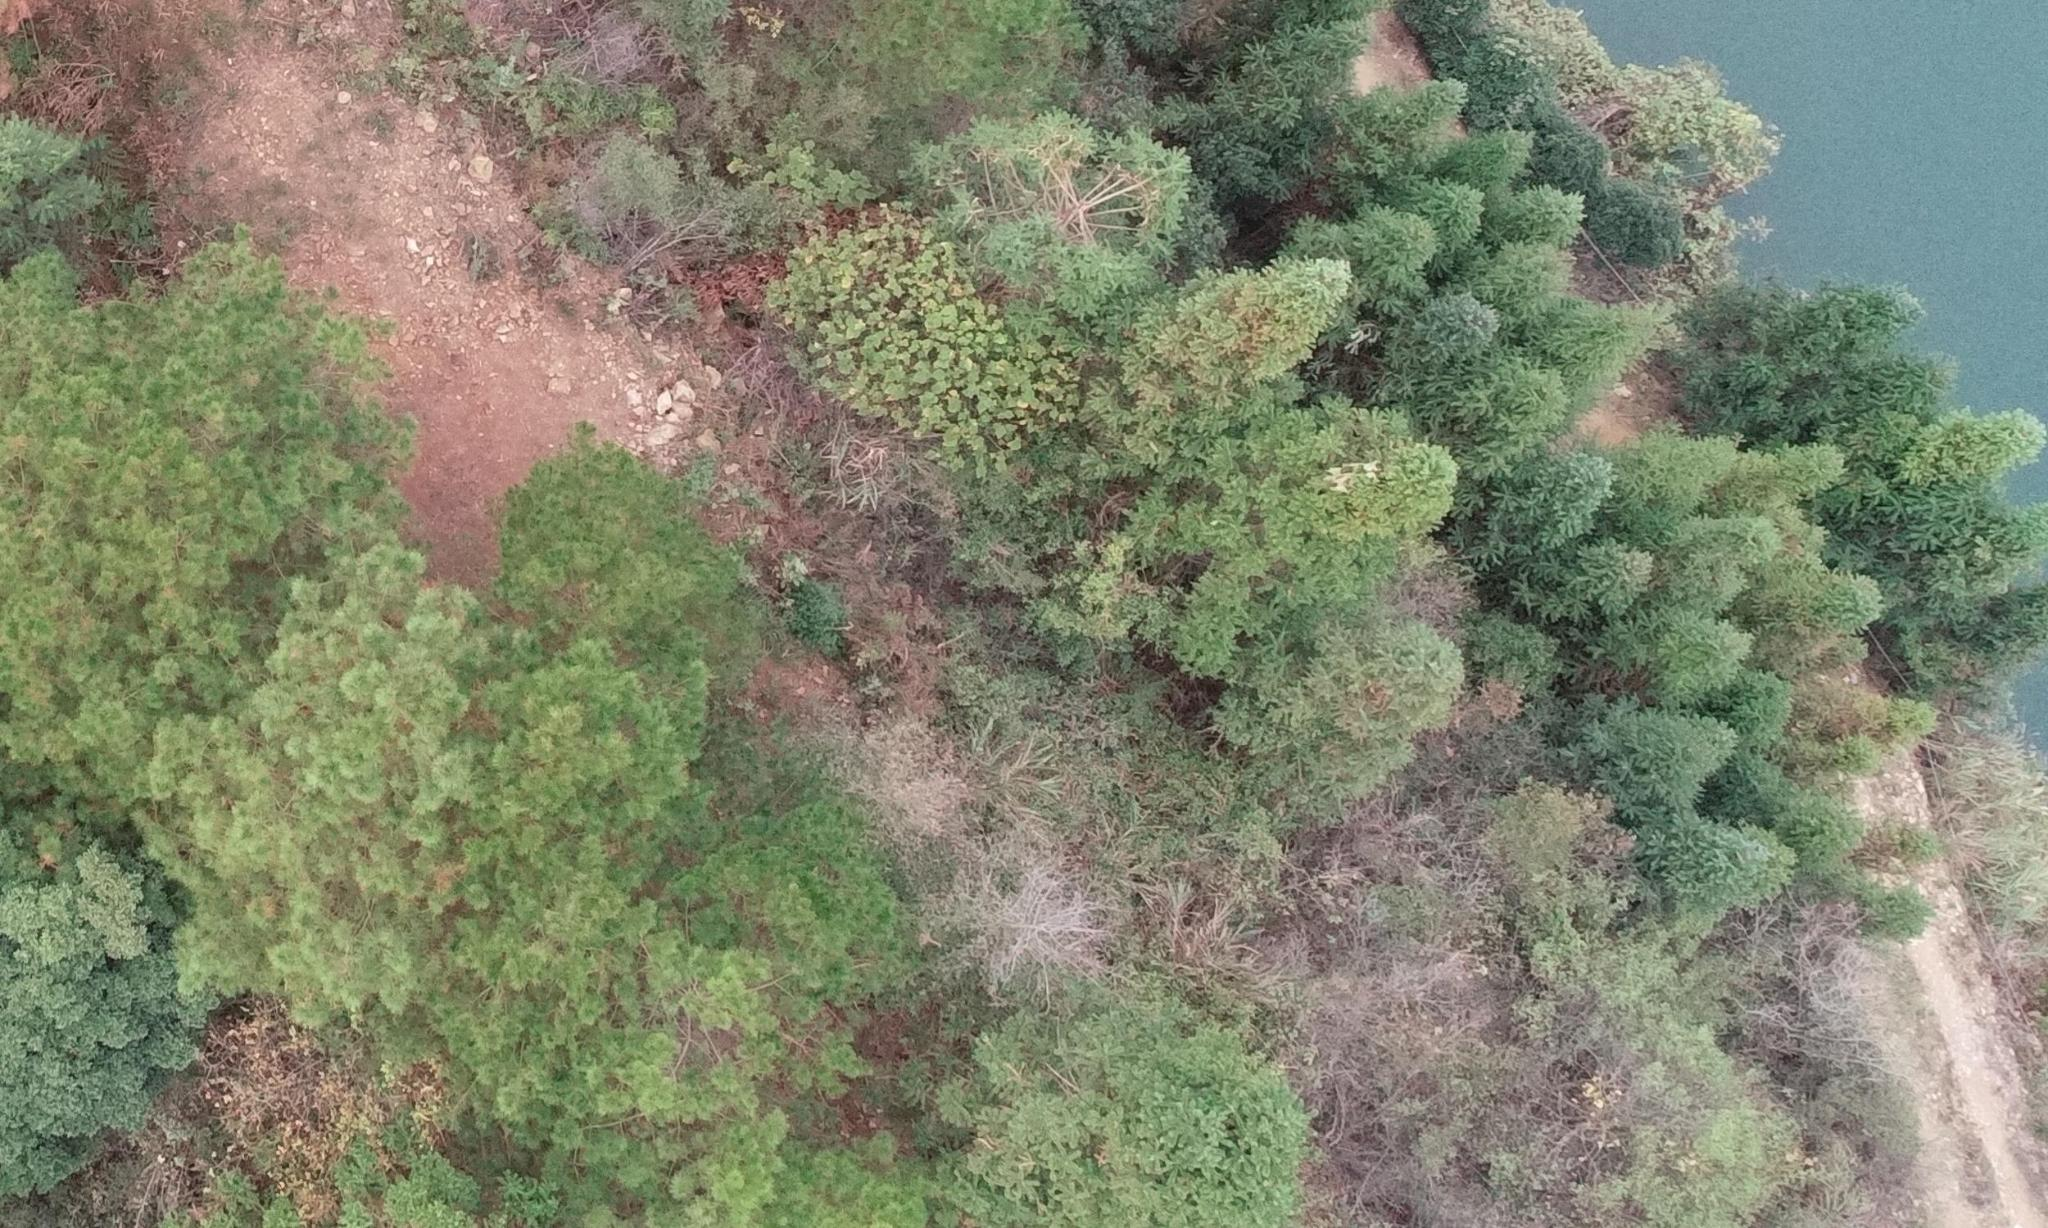heavy: (194, 1010, 437, 1206)
